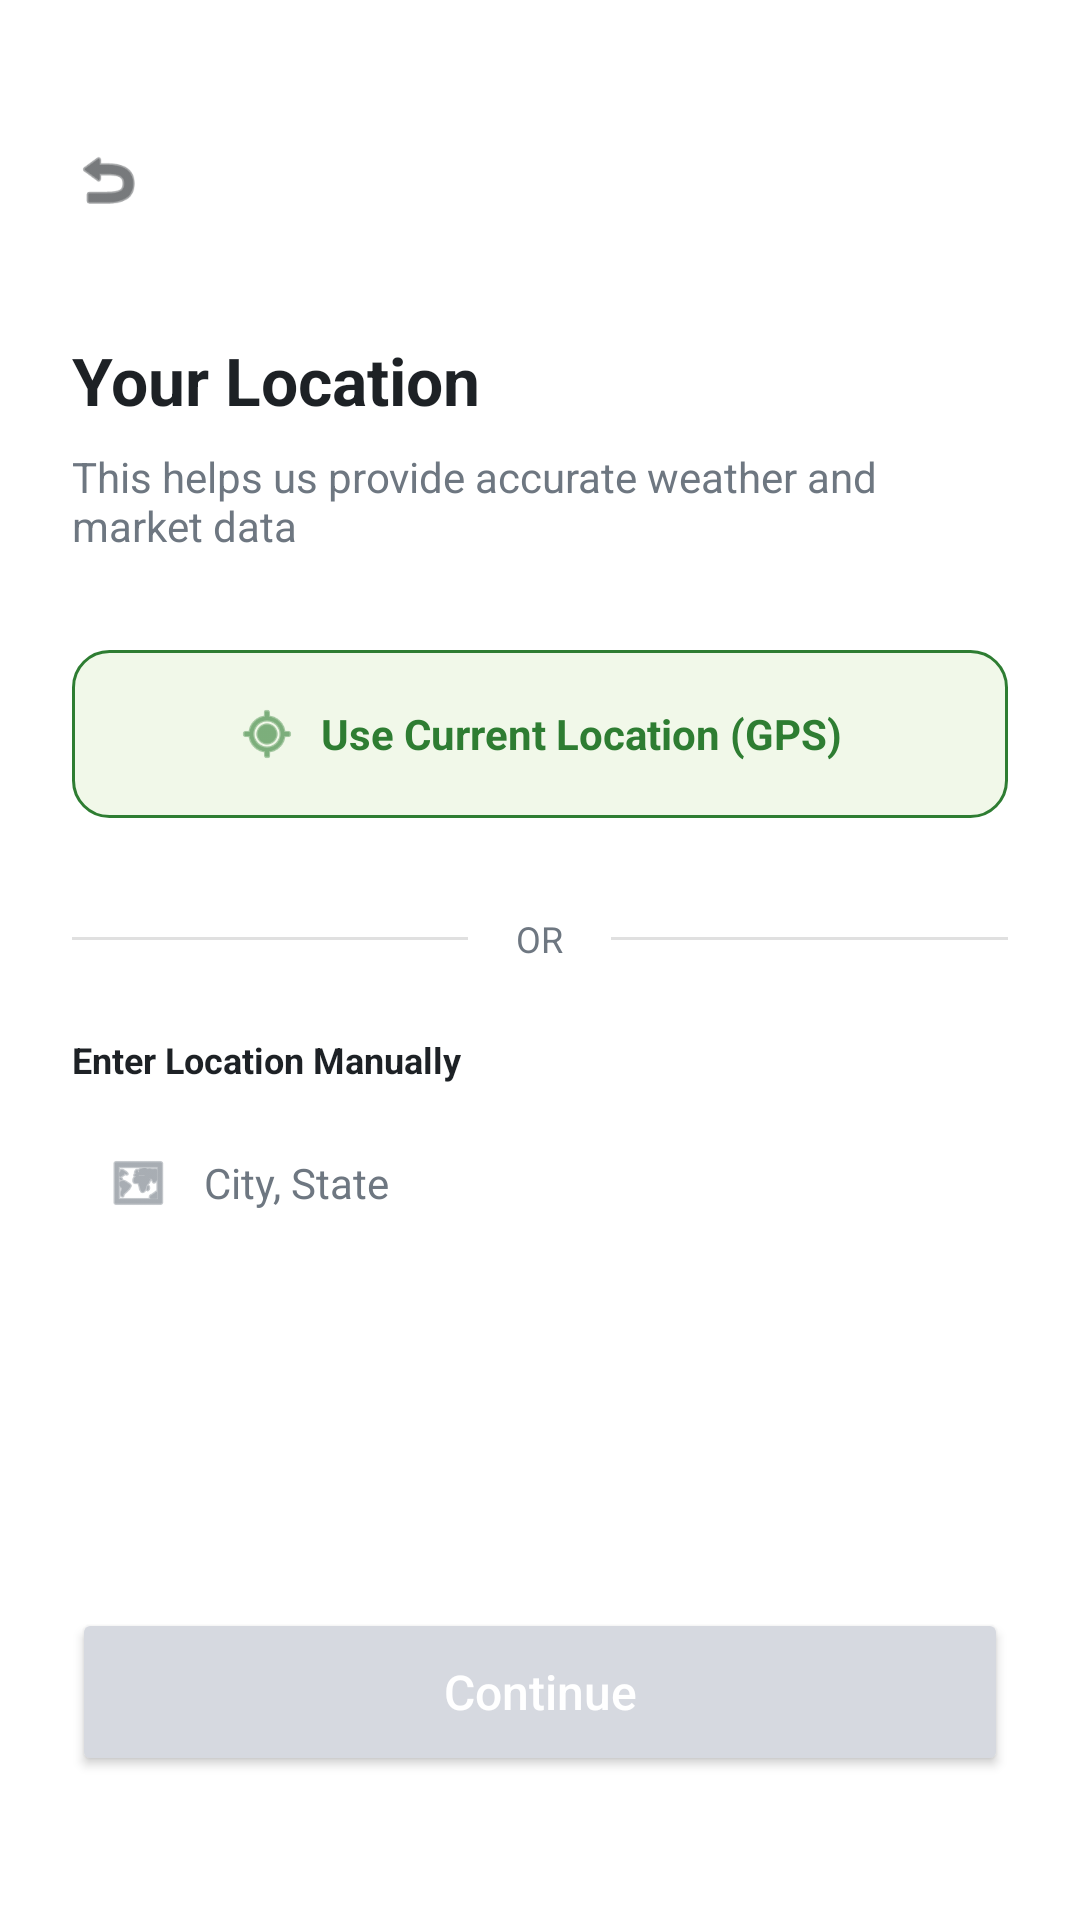

Screen size 1080*1920. Icon name, then its box in pixels as (x1, y1, x2, y2):
mapmode: (113, 1161, 163, 1205)
mylocation: (243, 710, 291, 758)
revert: (83, 157, 135, 204)
